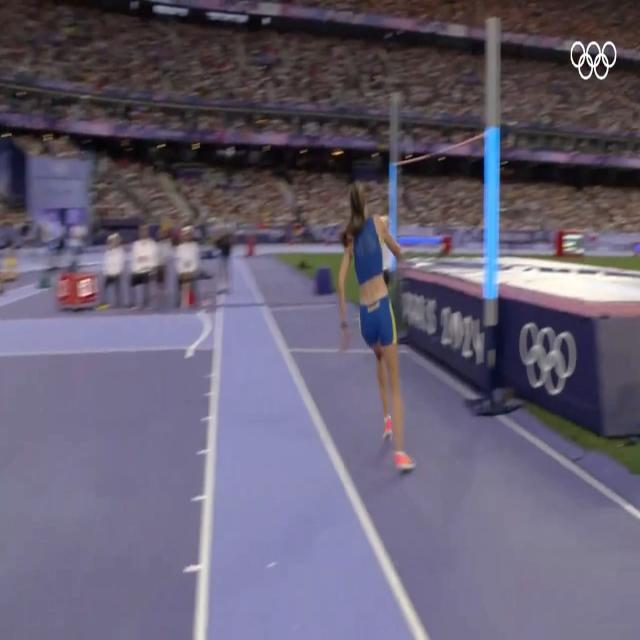run: (340, 183, 419, 473)
